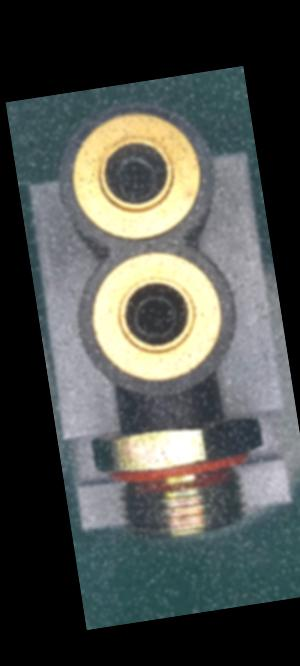craze: (166, 412, 180, 431)
off-centered: (107, 149, 163, 206)
